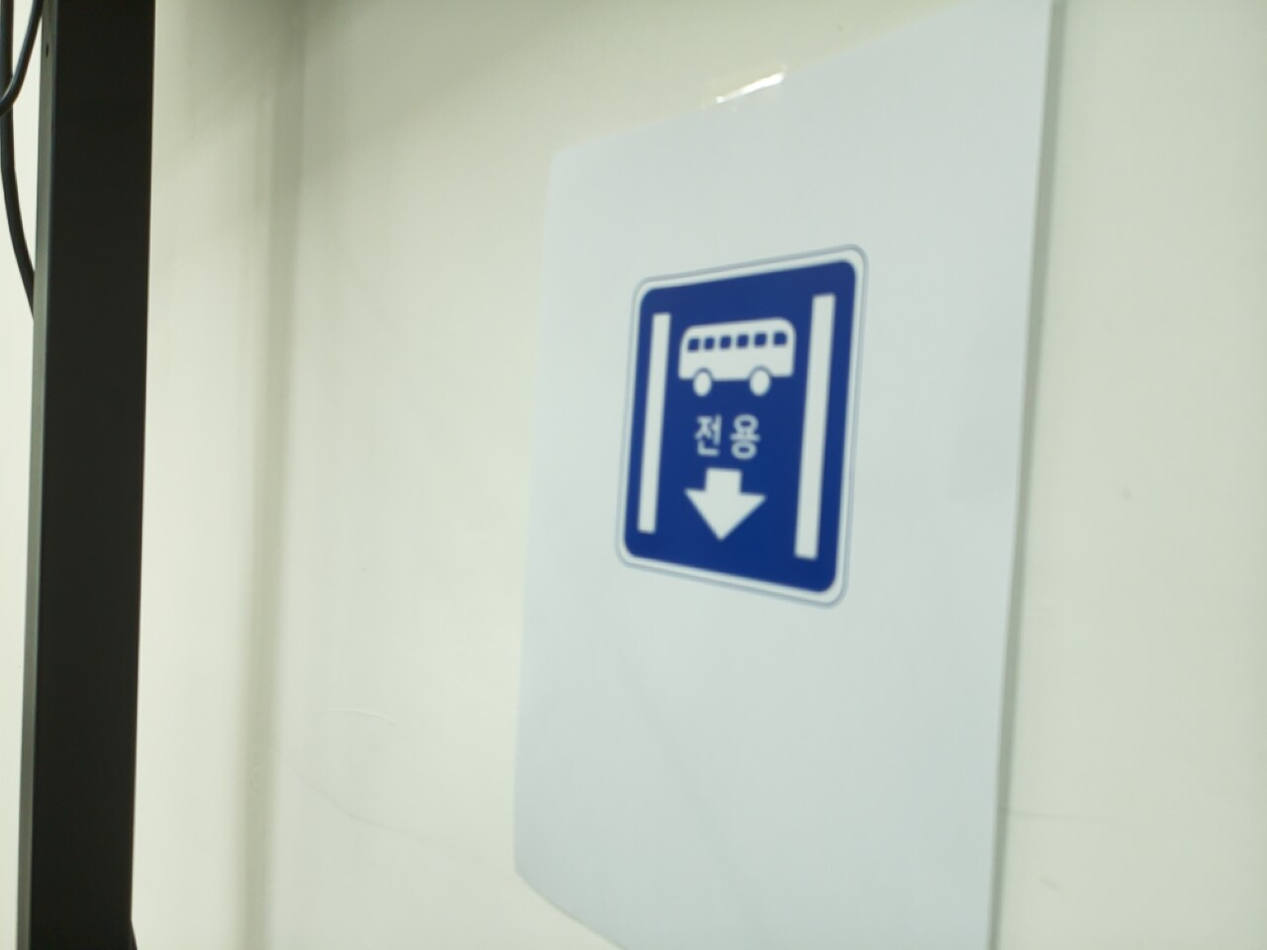bus_only_lane: (616, 251, 864, 603)
